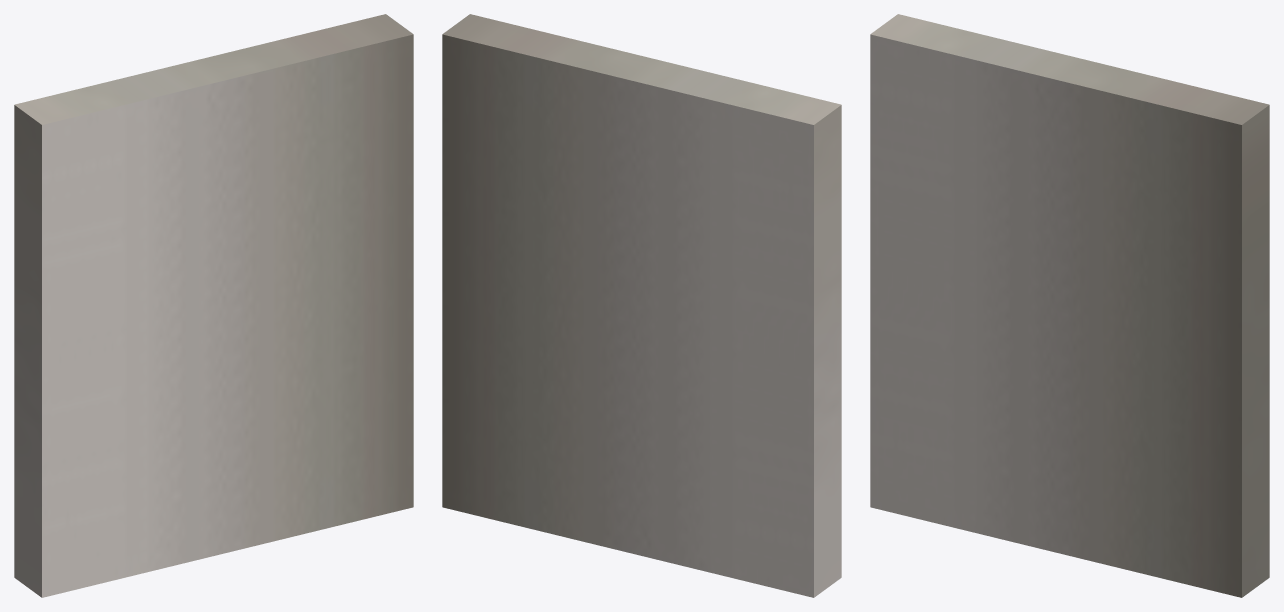
The model's file is Antorcha.fbx.
The picture shows the model from 3 angles, left to right: view 1: azimuth 30°, elevation 25°; view 2: azimuth 150°, elevation 25°; view 3: azimuth 330°, elevation 25°; orthographic projection.
Visible parts, largest first — view 1: Torch.001; view 2: Torch.001; view 3: Torch.001.
Boxes of the visible parts, x1,y1,x2,y2 form: Torch.001: (14, 14, 413, 597); Torch.001: (442, 14, 841, 597); Torch.001: (870, 14, 1269, 597).
Bounding box in the file's own units: 99.73 × 121 × 12.95.
